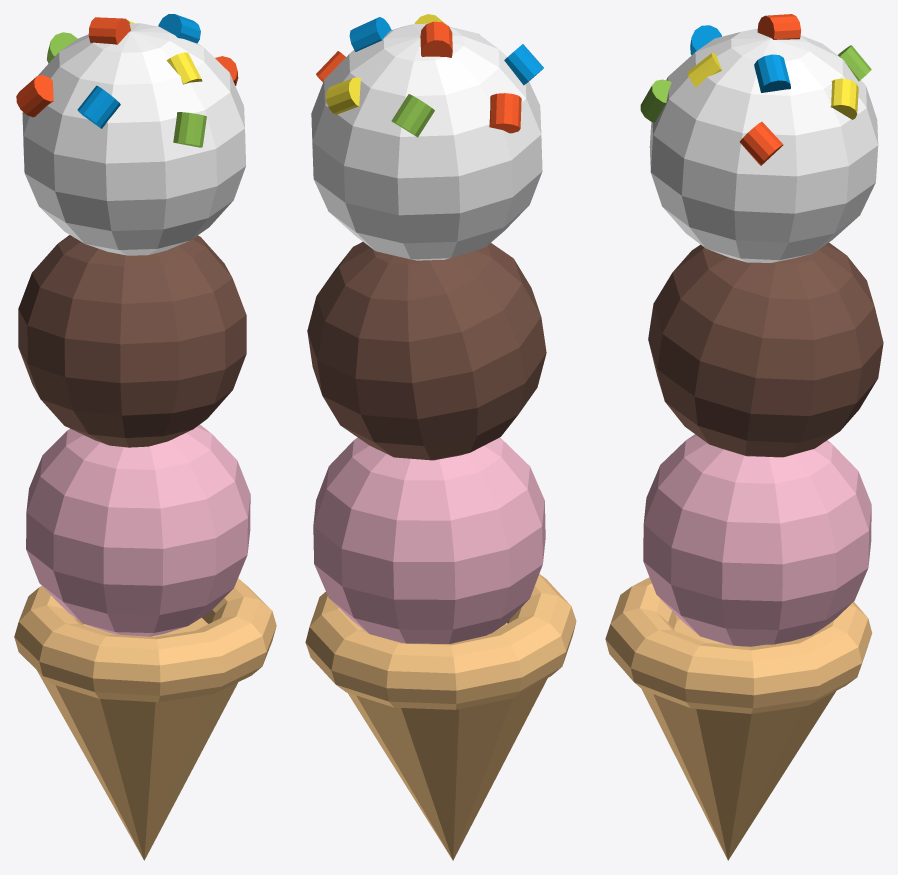
The picture shows the model from 3 angles, left to right: view 1: azimuth 30°, elevation 25°; view 2: azimuth 150°, elevation 25°; view 3: azimuth 270°, elevation 25°; orthographic projection. The views are drawn at different scales.
Visible parts, largest first — view 1: mesh_1987978699, mesh_2095354547, mesh_1974021860, mesh_1630274062, mesh_184610029, mesh_616444554, mesh_2124440983, mesh_1492441268, mesh_854419520, mesh_2083342866, mesh_1661203546; view 2: mesh_1987978699, mesh_1974021860, mesh_2095354547, mesh_1630274062, mesh_184610029, mesh_616444554, mesh_2111176150, mesh_854419520, mesh_1437215128, mesh_2083342866, mesh_2124440983; view 3: mesh_1987978699, mesh_2095354547, mesh_1974021860, mesh_1630274062, mesh_184610029, mesh_2083342866, mesh_1898805829, mesh_854419520, mesh_1437215128, mesh_1492441268, mesh_1661203546, mesh_2111176150.
Boxes of the visible parts, bbox=[...] form: mesh_1987978699: bbox=[18, 235, 246, 447]; mesh_2095354547: bbox=[26, 424, 250, 636]; mesh_1974021860: bbox=[22, 23, 246, 255]; mesh_1630274062: bbox=[14, 578, 276, 702]; mesh_184610029: bbox=[37, 617, 237, 860]; mesh_616444554: bbox=[16, 75, 53, 117]; mesh_2124440983: bbox=[77, 85, 120, 128]; mesh_1492441268: bbox=[173, 112, 206, 147]; mesh_854419520: bbox=[88, 17, 130, 44]; mesh_2083342866: bbox=[158, 14, 200, 43]; mesh_1661203546: bbox=[166, 52, 202, 84]; mesh_1987978699: bbox=[307, 242, 546, 460]; mesh_1974021860: bbox=[311, 23, 542, 260]; mesh_2095354547: bbox=[313, 437, 545, 643]; mesh_1630274062: bbox=[305, 574, 576, 709]; mesh_184610029: bbox=[347, 623, 547, 860]; mesh_616444554: bbox=[489, 93, 521, 133]; mesh_2111176150: bbox=[391, 94, 434, 137]; mesh_854419520: bbox=[420, 21, 452, 57]; mesh_1437215128: bbox=[326, 77, 360, 114]; mesh_2083342866: bbox=[349, 17, 391, 51]; mesh_2124440983: bbox=[504, 44, 543, 85]; mesh_1987978699: bbox=[648, 242, 883, 457]; mesh_2095354547: bbox=[643, 434, 871, 646]; mesh_1974021860: bbox=[649, 28, 878, 262]; mesh_1630274062: bbox=[605, 577, 872, 713]; mesh_184610029: bbox=[641, 619, 835, 860]; mesh_2083342866: bbox=[754, 54, 790, 92]; mesh_1898805829: bbox=[739, 121, 783, 165]; mesh_854419520: bbox=[757, 14, 800, 39]; mesh_1437215128: bbox=[830, 78, 858, 119]; mesh_1492441268: bbox=[640, 79, 671, 122]; mesh_1661203546: bbox=[687, 52, 721, 87]; mesh_2111176150: bbox=[838, 45, 871, 81].
Bounding box in the file's own units: 16.89 × 58.79 × 17.6.
